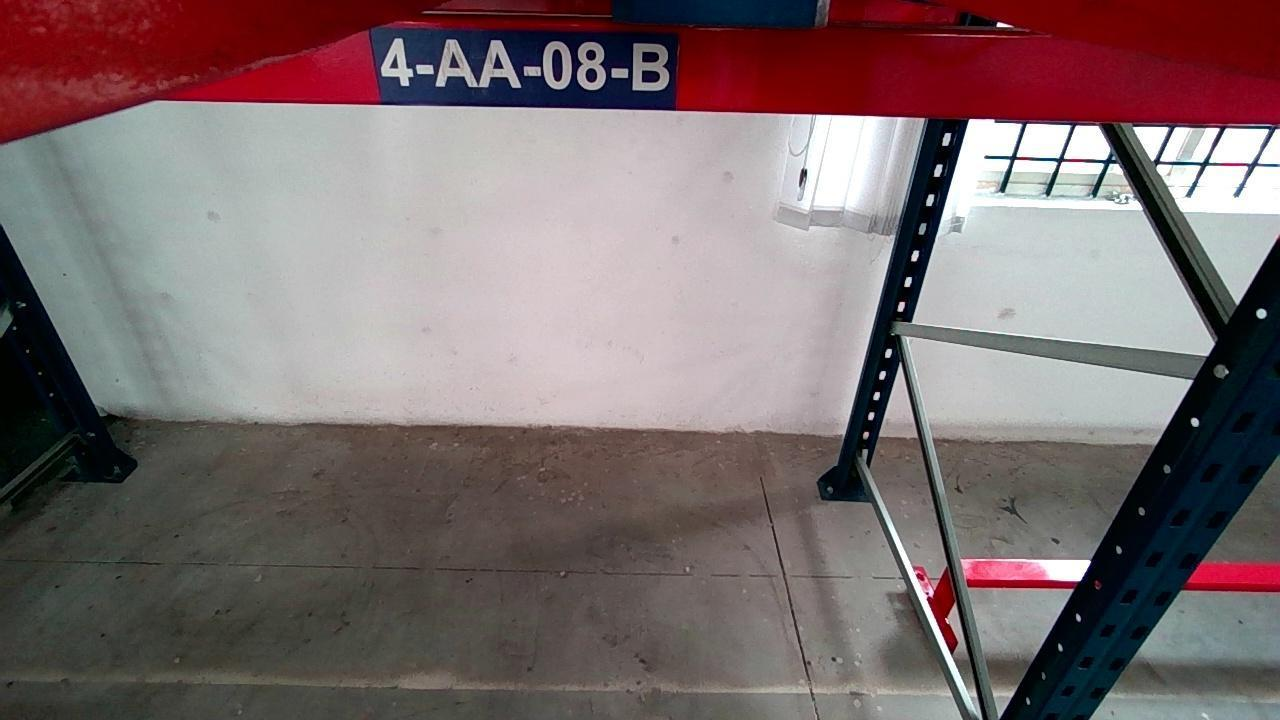h_rack: (180, 20, 1278, 122)
